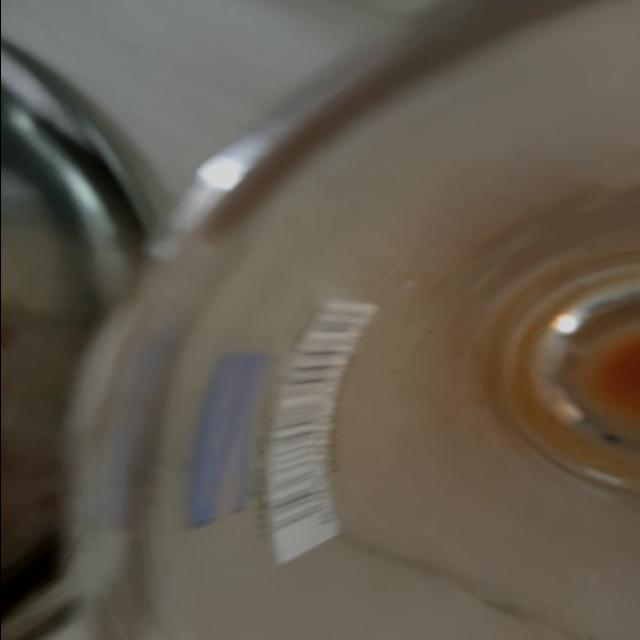glass-VX4N: (76, 0, 640, 640)
